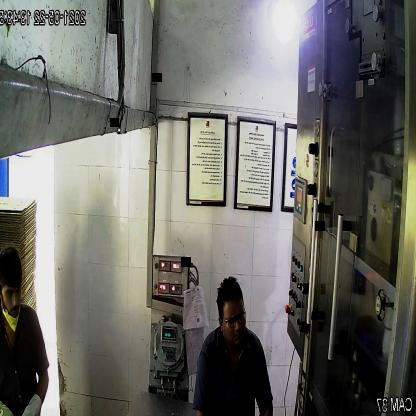goggles: (218, 306, 248, 332)
no_goggles: (2, 283, 24, 302)
